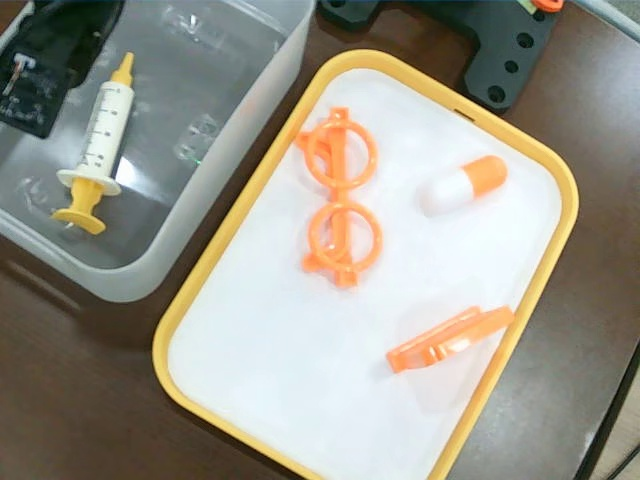pill: (420, 155, 509, 218)
syringe: (49, 51, 136, 236)
